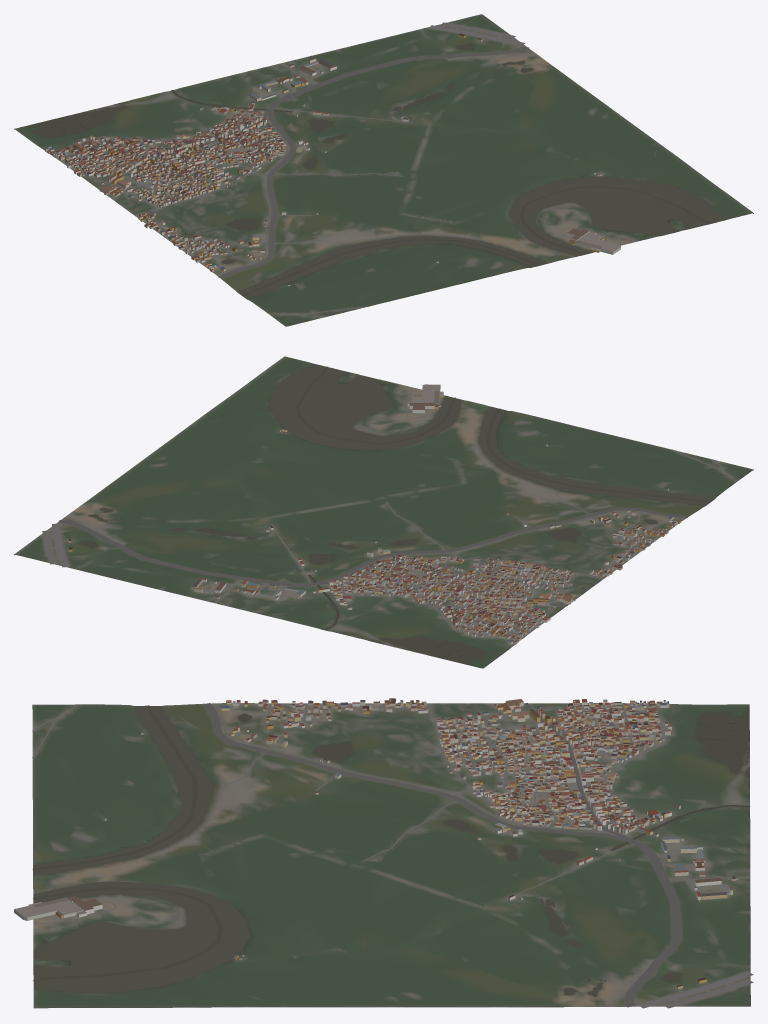
3 renders of one model, top to bottom at view 1: azimuth 30°, elevation 25°; view 2: azimuth 150°, elevation 25°; view 3: azimuth 270°, elevation 25°, orthographic. The views are drawn at different scales.
Visible parts, largest first — view 1: ground, water, buildings, roads; view 2: ground, water, buildings, roads; view 3: ground, water, buildings, roads.
Boxes of the visible parts, x1,y1,x2,y2 form: ground: (14,14,753,326); water: (19,44,726,299); buildings: (45,33,620,286); roads: (53,22,621,316); ground: (14,356,753,668); water: (81,363,714,667); buildings: (68,384,681,644); roads: (42,388,736,638); ground: (32,703,750,1008); water: (32,705,750,996); buildings: (14,698,738,988); roads: (32,703,753,1008).
Bounding box in the file's own units: 1417 × 26.84 × 1446.
